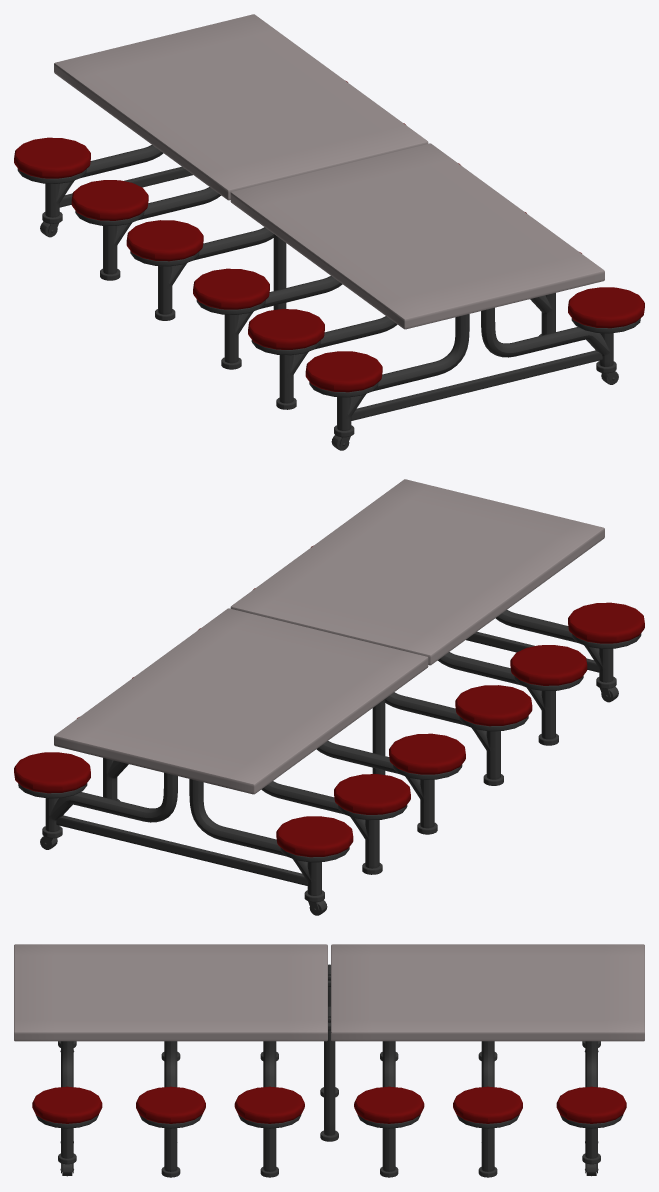
The model's file is Cafeteria Table.fbx.
3 renders of one model, top to bottom at view 1: azimuth 30°, elevation 25°; view 2: azimuth 150°, elevation 25°; view 3: azimuth 270°, elevation 25°, orthographic. The views are drawn at different scales.
Parts seen in each view (by area): view 1: table_side_1, table_side_2, cross_beam, seat_6, seat_2_2, seat_1_2, seat_3_2, seat_4, seat_3, seat_5, center_bar_6, center_bar_3 (+8 smaller); view 2: table_side_2, table_side_1, cross_beam_2, seat_3_2, seat_5, seat_6, seat_4, seat_1_2, seat_2_2, seat_6_2, center_bar_12, center_bar_9 (+8 smaller); view 3: table_side_1, table_side_2, seat_6_2, seat_3, seat_4_2, seat_1, seat_2, seat_5_2, center_bar, center_bar_2_2, center_bar_11, center_bar_10 (+3 smaller).
Part boxes in pixels (x1=…): table_side_1: x1=230, y1=143, x2=604, y2=329; table_side_2: x1=54, y1=14, x2=428, y2=200; cross_beam: x1=351, y1=350, x2=602, y2=420; seat_6: x1=305, y1=351, x2=382, y2=392; seat_2_2: x1=71, y1=180, x2=148, y2=220; seat_1_2: x1=126, y1=220, x2=203, y2=261; seat_3_2: x1=14, y1=137, x2=90, y2=178; seat_4: x1=193, y1=268, x2=269, y2=309; seat_3: x1=568, y1=287, x2=644, y2=328; seat_5: x1=248, y1=309, x2=324, y2=349; center_bar_6: x1=337, y1=314, x2=469, y2=430; center_bar_3: x1=481, y1=307, x2=613, y2=366; table_side_2: x1=54, y1=608, x2=428, y2=794; table_side_1: x1=230, y1=479, x2=604, y2=665; cross_beam_2: x1=56, y1=815, x2=307, y2=885; seat_3_2: x1=276, y1=816, x2=353, y2=857; seat_5: x1=510, y1=645, x2=587, y2=685; seat_6: x1=568, y1=602, x2=644, y2=643; seat_4: x1=455, y1=685, x2=532, y2=726; seat_1_2: x1=389, y1=733, x2=465, y2=774; seat_2_2: x1=334, y1=774, x2=410, y2=814; seat_6_2: x1=14, y1=752, x2=90, y2=793; center_bar_12: x1=45, y1=772, x2=177, y2=831; center_bar_9: x1=189, y1=779, x2=321, y2=895; table_side_1: x1=14, y1=944, x2=327, y2=1041; table_side_2: x1=331, y1=944, x2=644, y2=1041; seat_6_2: x1=556, y1=1086, x2=626, y2=1123; seat_3: x1=32, y1=1086, x2=102, y2=1123; seat_4_2: x1=354, y1=1086, x2=424, y2=1123; seat_1: x1=234, y1=1086, x2=304, y2=1123; seat_2: x1=136, y1=1086, x2=205, y2=1123; seat_5_2: x1=453, y1=1086, x2=522, y2=1123; center_bar: x1=263, y1=1041, x2=276, y2=1171; center_bar_2_2: x1=164, y1=1041, x2=177, y2=1171; center_bar_11: x1=481, y1=1041, x2=494, y2=1171; center_bar_10: x1=382, y1=1041, x2=395, y2=1171.
Bounding box in the file's own units: 10.14 × 4.19 × 18.69.
